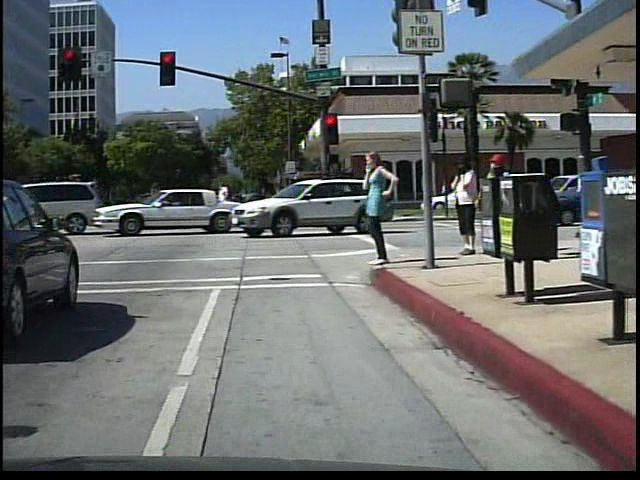person: (358, 147, 399, 273), (476, 146, 514, 256), (447, 148, 483, 257)
